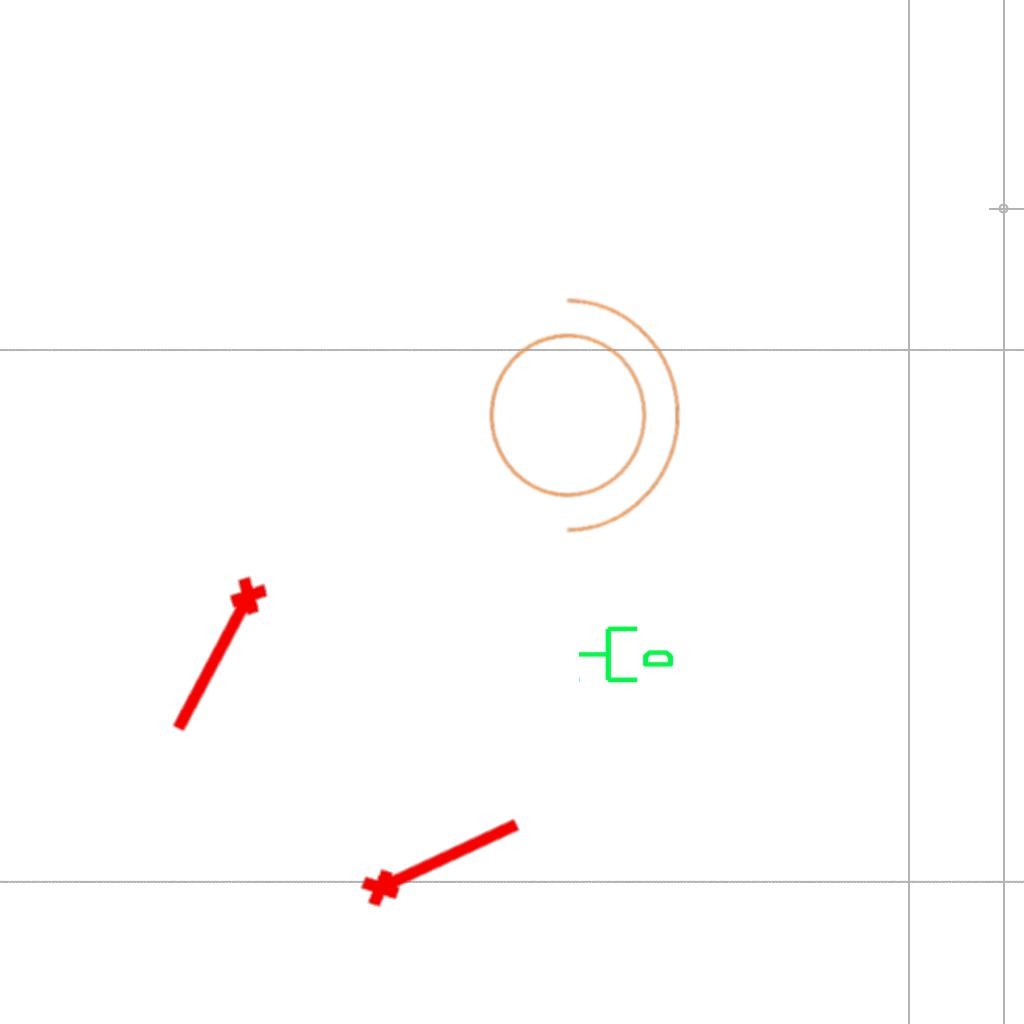ASR_Ansaugoeffnung: (157, 568, 281, 746), (351, 798, 531, 916)
Datenanschluss_einfach: (576, 618, 676, 687)
Scheinwerfer_fuer_Alarmbeleuchtung: (465, 277, 690, 541)
